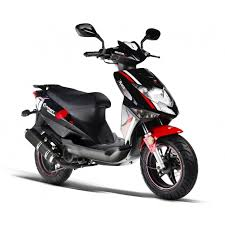motorcycle: (16, 17, 200, 201)
